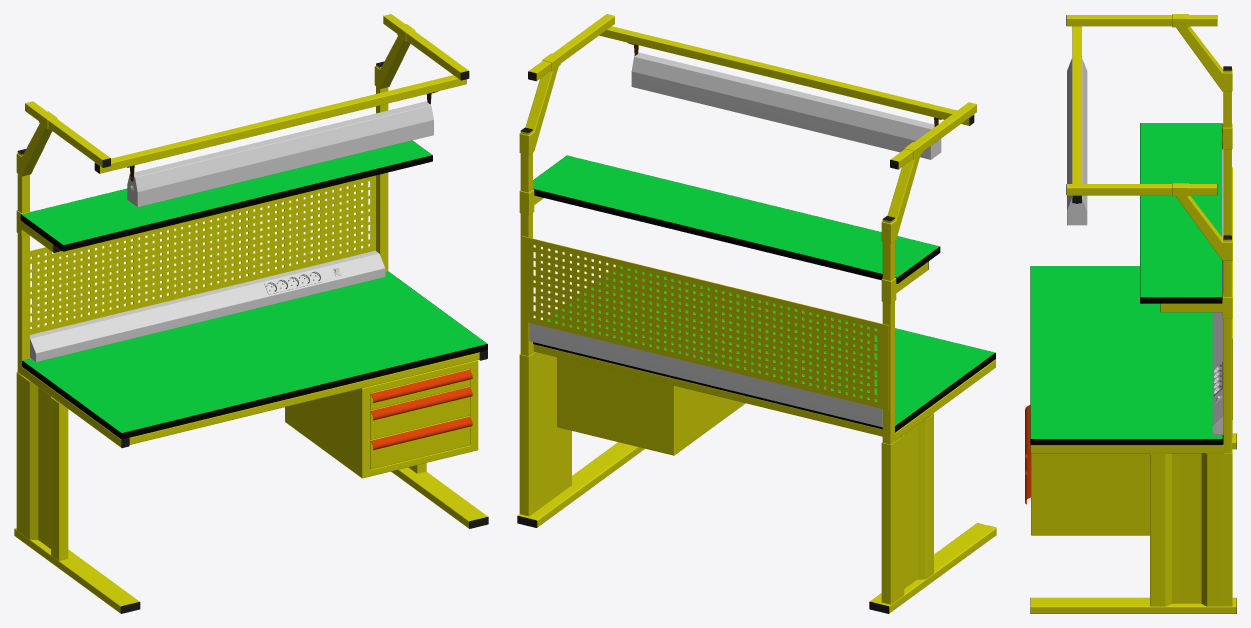
The model's file is Стол радиотехника.fbx.
The picture shows the model from 3 angles, left to right: view 1: azimuth 30°, elevation 25°; view 2: azimuth 150°, elevation 25°; view 3: azimuth 270°, elevation 25°; orthographic projection. The views are drawn at different scales.
Visible parts, largest first — view 1: Korpus_table_radiotechnica, Korpus_lampa, Korpus_rozetkas, Shell_2, Shell_3, Shell_1; view 2: Korpus_table_radiotechnica, Korpus_lampa, Korpus_rozetkas; view 3: Korpus_table_radiotechnica, Korpus_lampa, Korpus_rozetkas.
Part boxes in pixels (x1,y1,x2,y2): Korpus_table_radiotechnica: [14, 14, 488, 613]; Korpus_lampa: [127, 101, 433, 207]; Korpus_rozetkas: [30, 250, 385, 361]; Shell_2: [370, 386, 472, 439]; Shell_3: [370, 416, 472, 469]; Shell_1: [370, 369, 472, 410]; Korpus_table_radiotechnica: [517, 14, 996, 613]; Korpus_lampa: [631, 52, 941, 159]; Korpus_rozetkas: [529, 323, 882, 427]; Korpus_table_radiotechnica: [1030, 14, 1236, 613]; Korpus_lampa: [1067, 58, 1087, 225]; Korpus_rozetkas: [1212, 261, 1223, 434].
Bounding box in the file's own units: 150 × 171 × 76.91.
